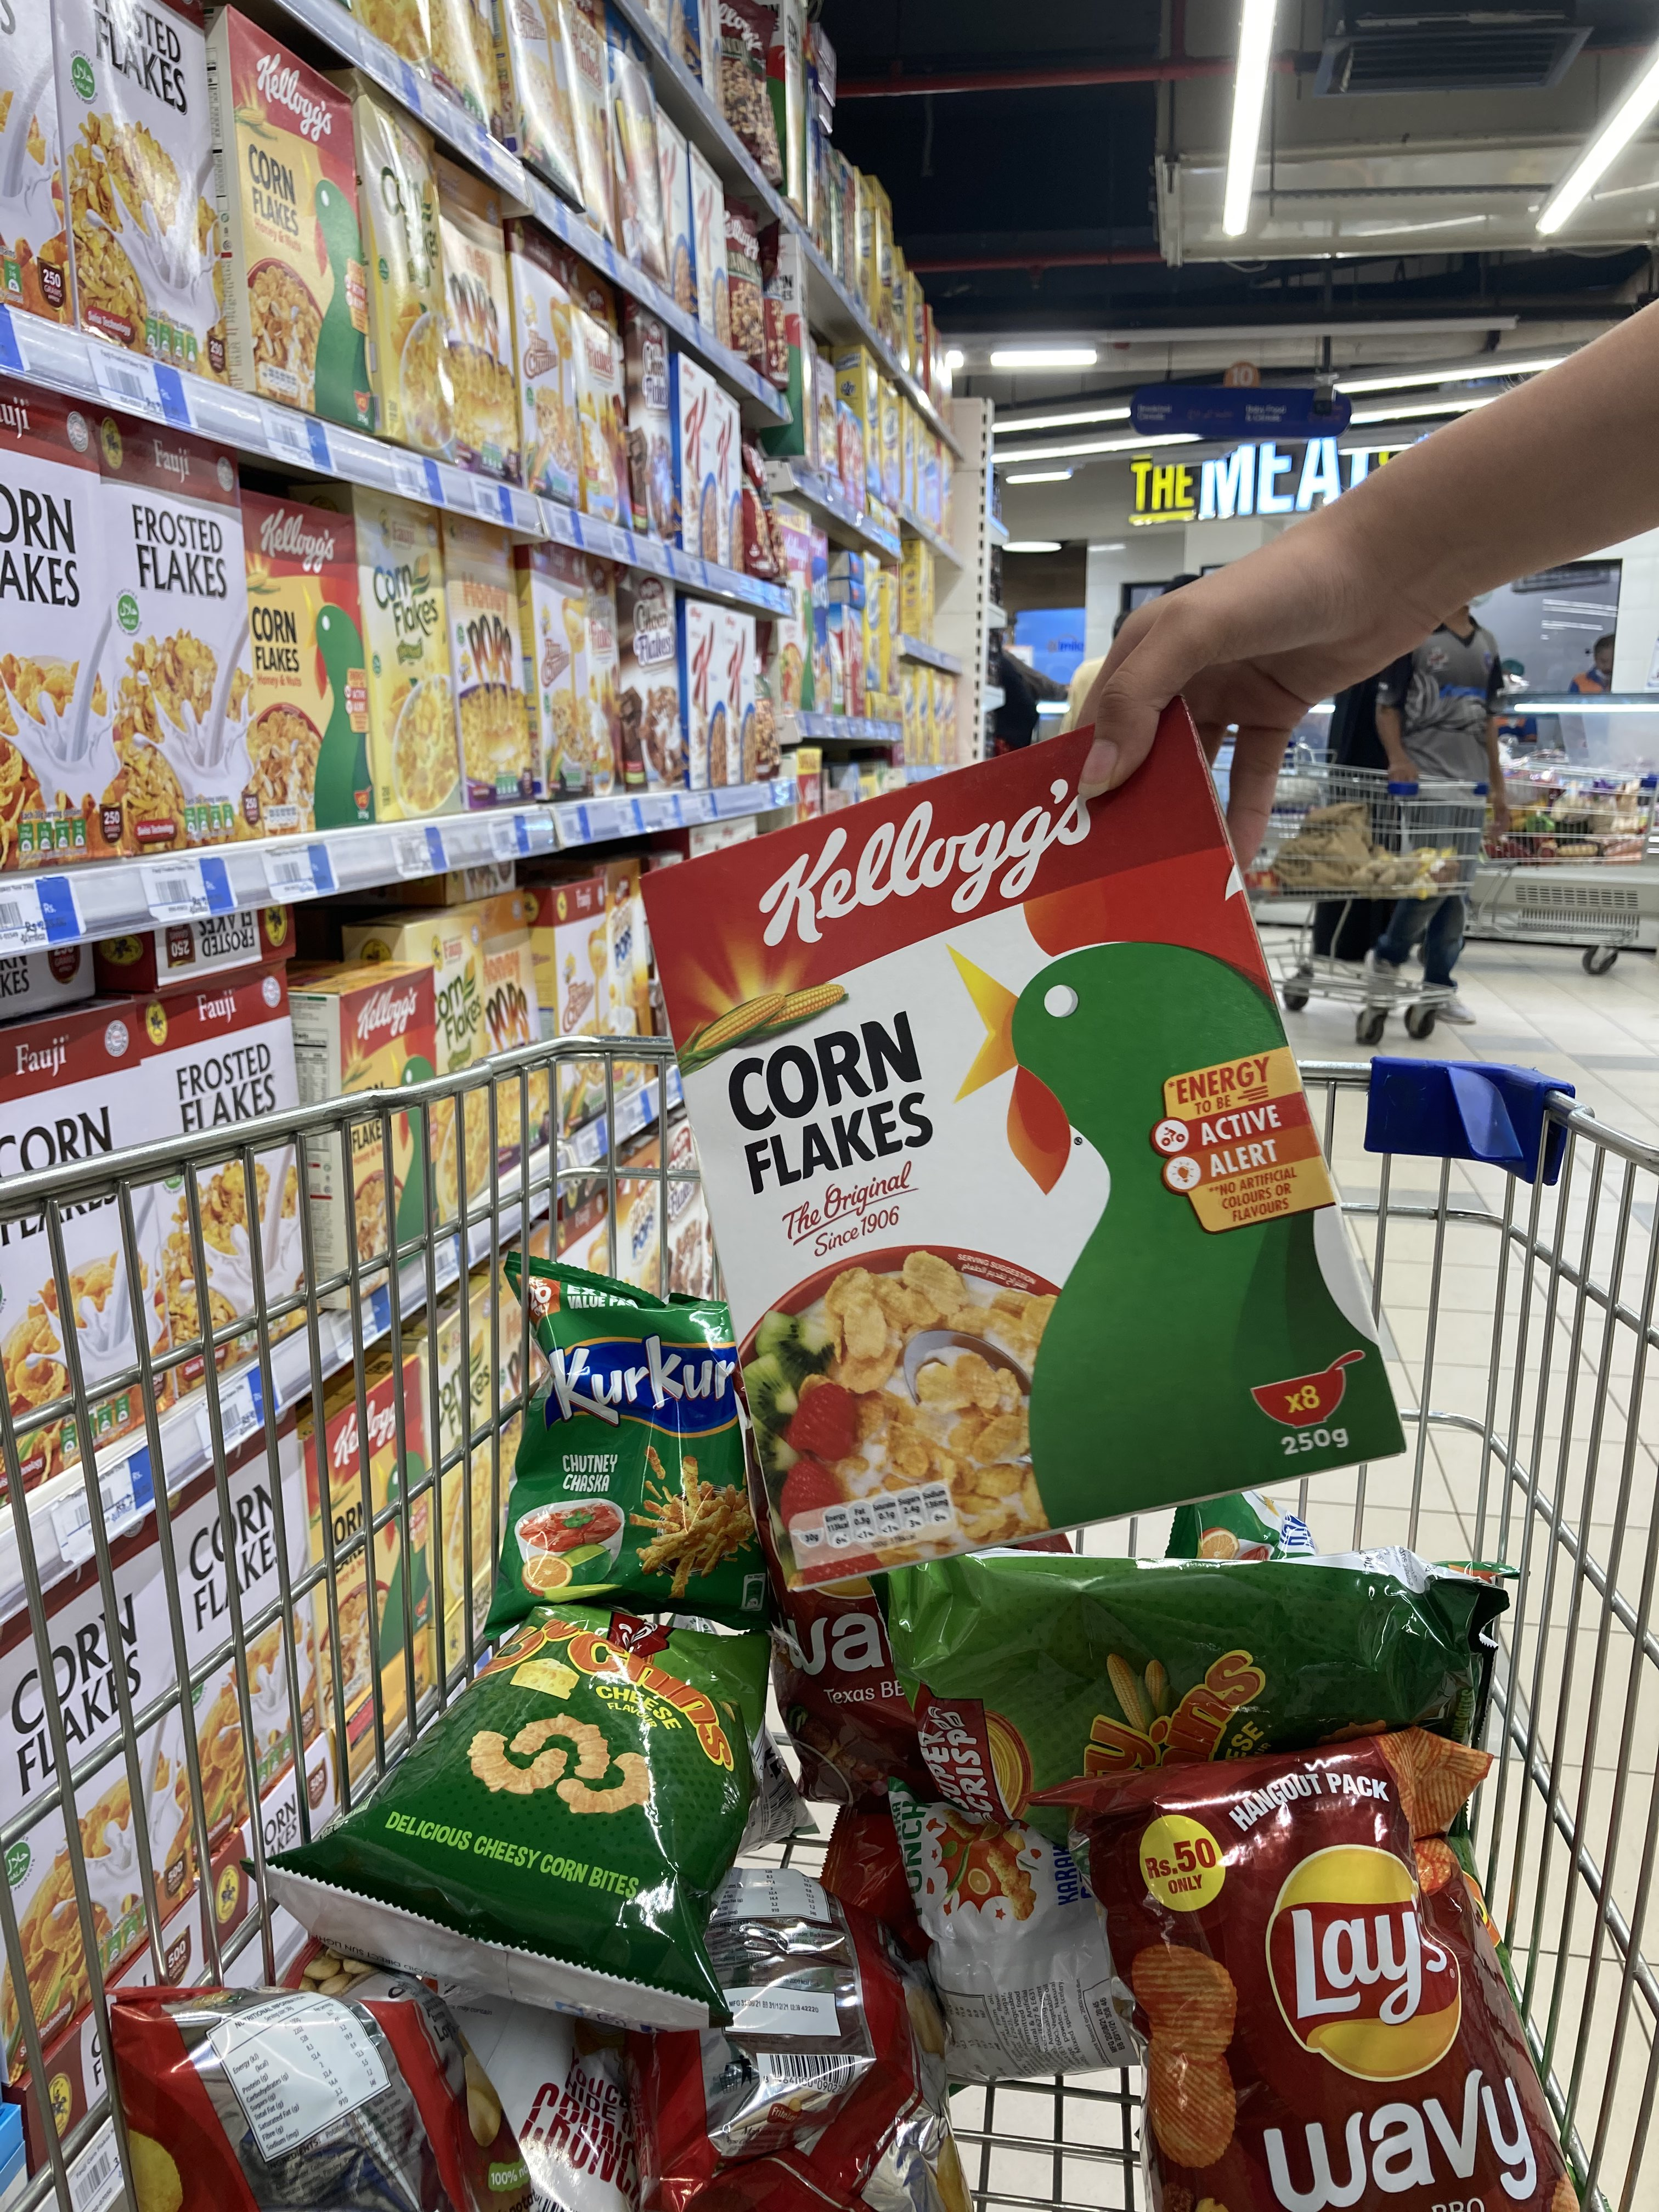Kellogg's Corn Flakes: (633, 738, 1424, 1587)
